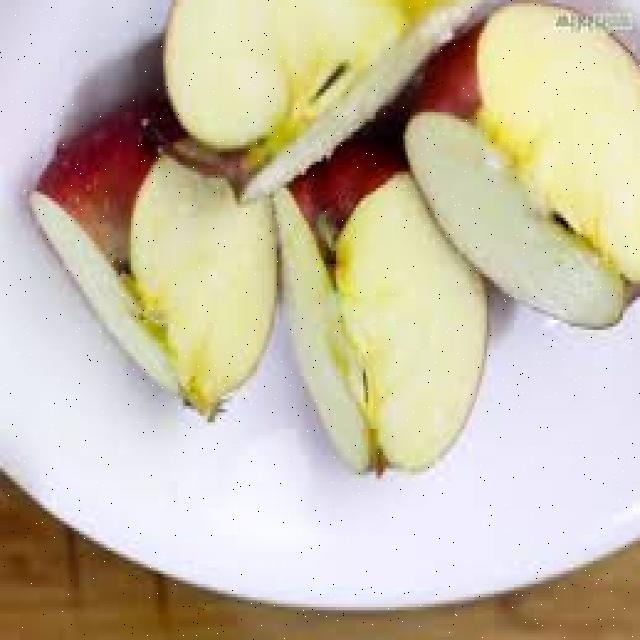Apple: (284, 161, 492, 488), (32, 148, 282, 416), (152, 0, 476, 193), (443, 19, 638, 325)
